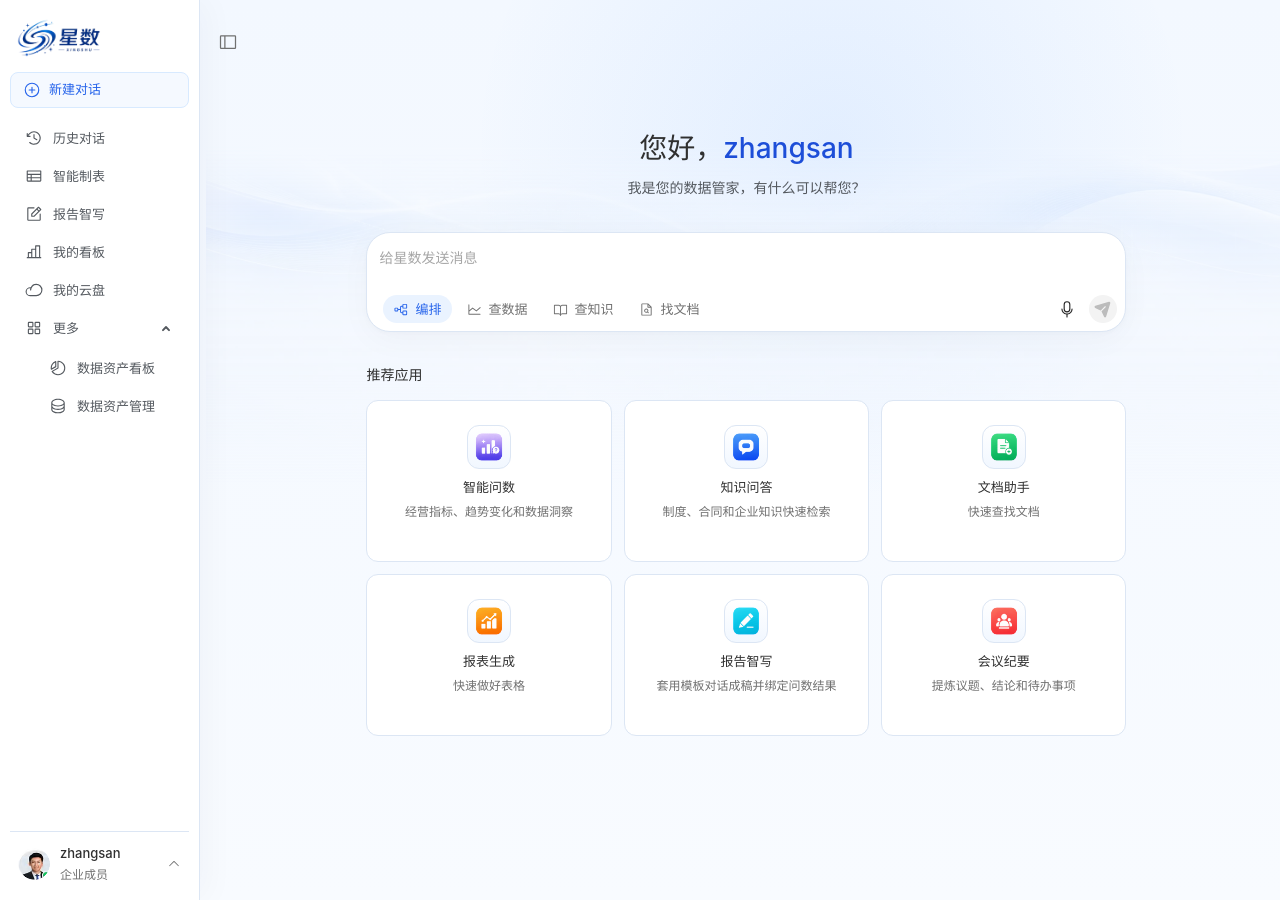
Test case: AppRoutes › stays on home and switches the ask workspace from a recommended card
Click the button with aria-label "打开 智能问数": point(489, 482) x1=383 y1=415 x2=595 y2=549
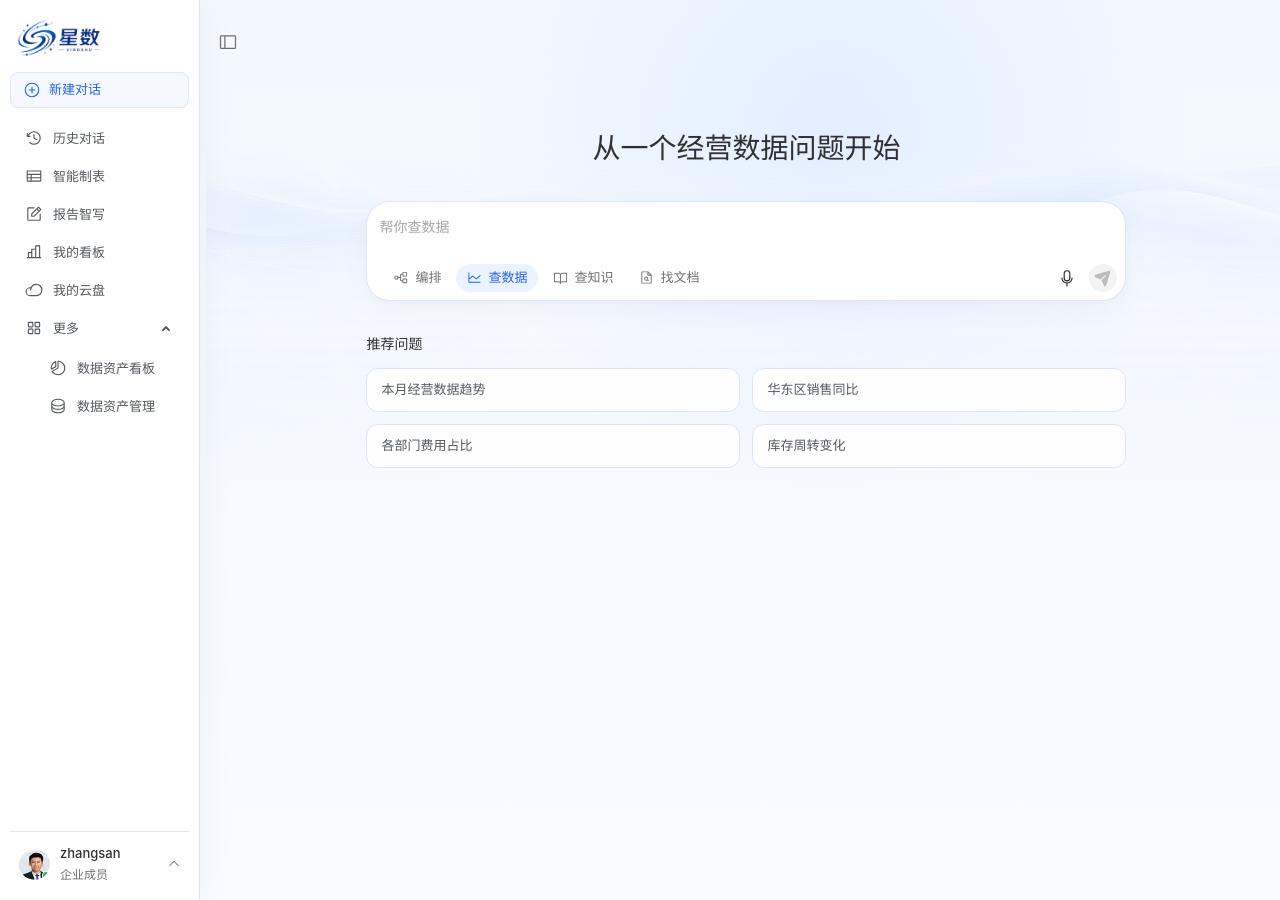
expect the heading "从一个经营数据问题开始" is shown: met, box x1=592 y1=131 x2=900 y2=165
expect the heading "推荐问题" is shown: met, box x1=366 y1=335 x2=422 y2=352
